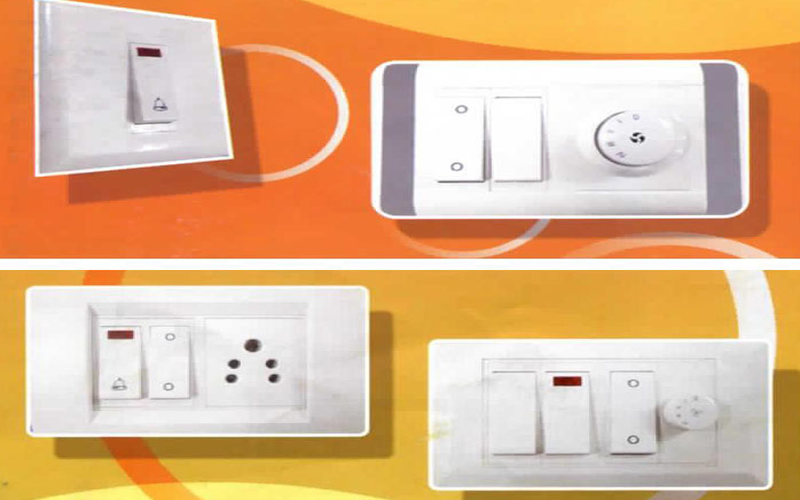Switches: (457, 340, 743, 474), (412, 71, 570, 211), (55, 291, 210, 418), (110, 8, 203, 150)
